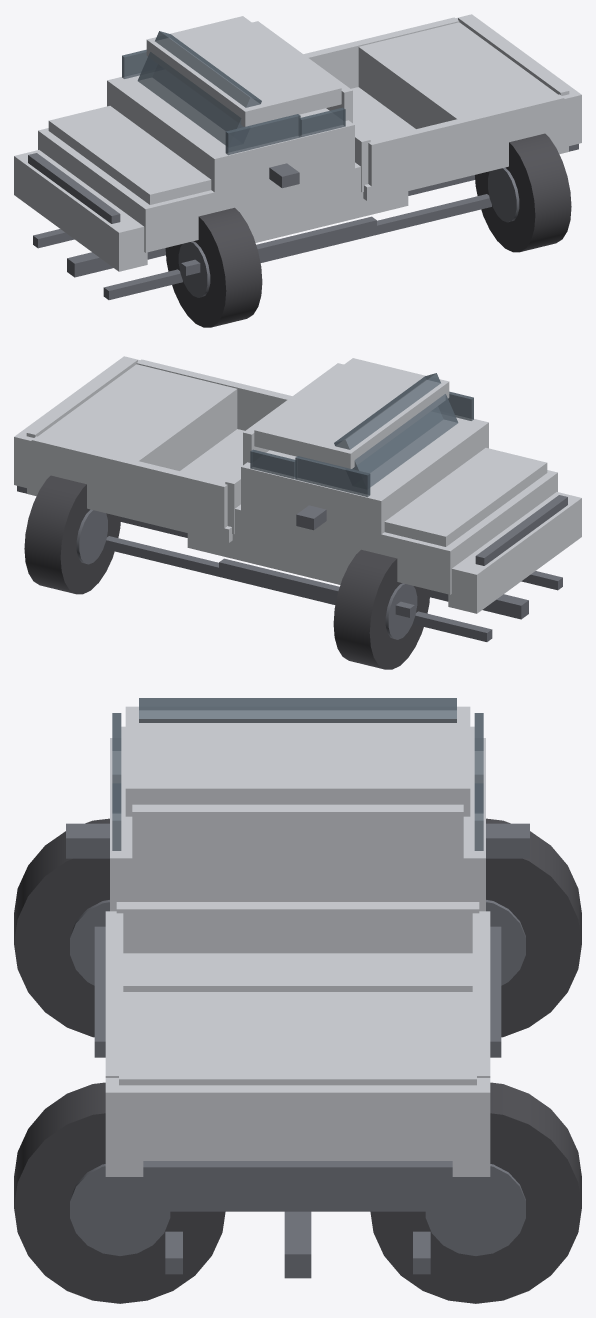
File: isuzu-d-max.glb
3 renders of one model, top to bottom at view 1: azimuth 30°, elevation 25°; view 2: azimuth 150°, elevation 25°; view 3: azimuth 270°, elevation 25°, orthographic. The views are drawn at different scales.
Parts seen in each view (by area): view 1: Vehicle; view 2: Vehicle; view 3: Vehicle.
Boxes of the visible parts, x1,y1,x2,y2 form: Vehicle: (14, 14, 581, 327); Vehicle: (14, 356, 581, 669); Vehicle: (14, 698, 581, 1303).
Bounding box in the file's own units: 4.27 × 1.81 × 2.57.
